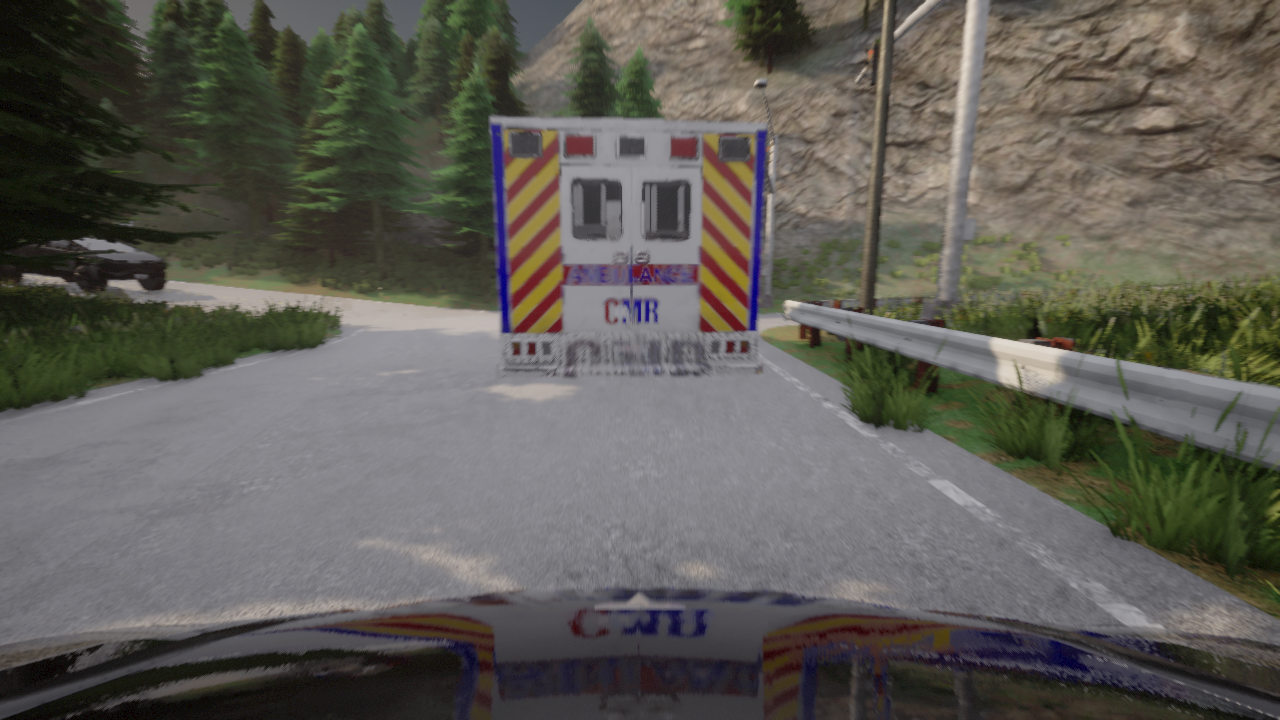cyclist: (0, 588, 1279, 719), (490, 117, 767, 378), (0, 237, 166, 292)
